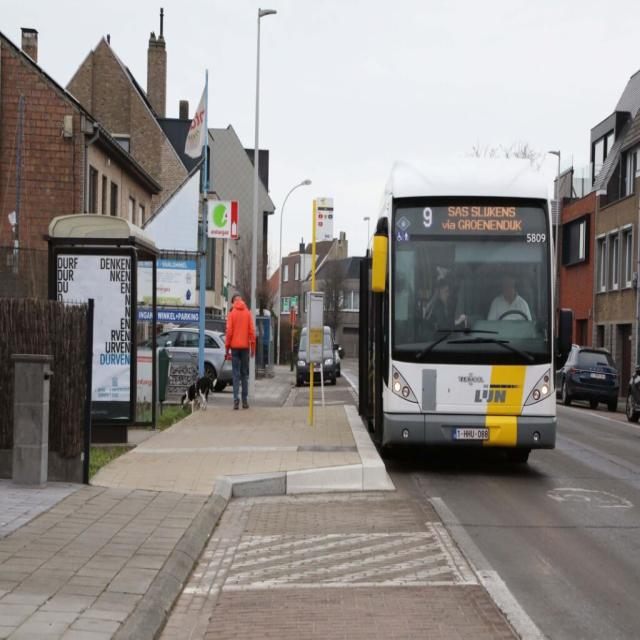bus-number: (421, 204, 434, 230)
